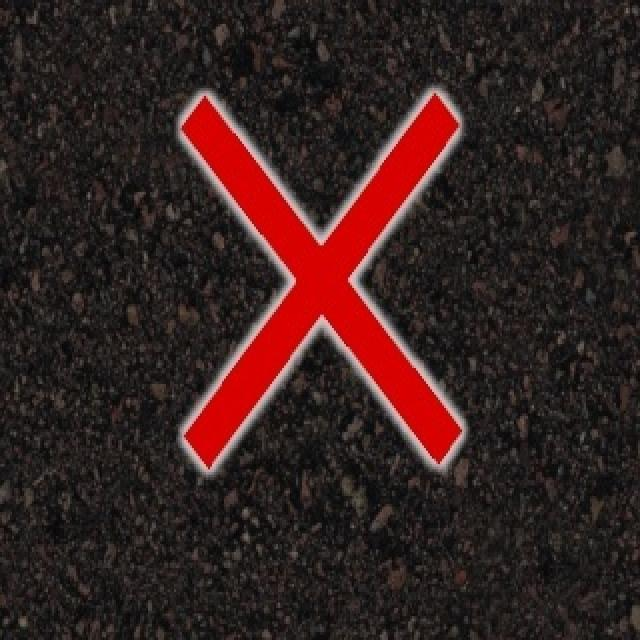x_marker: (181, 92, 461, 468)
